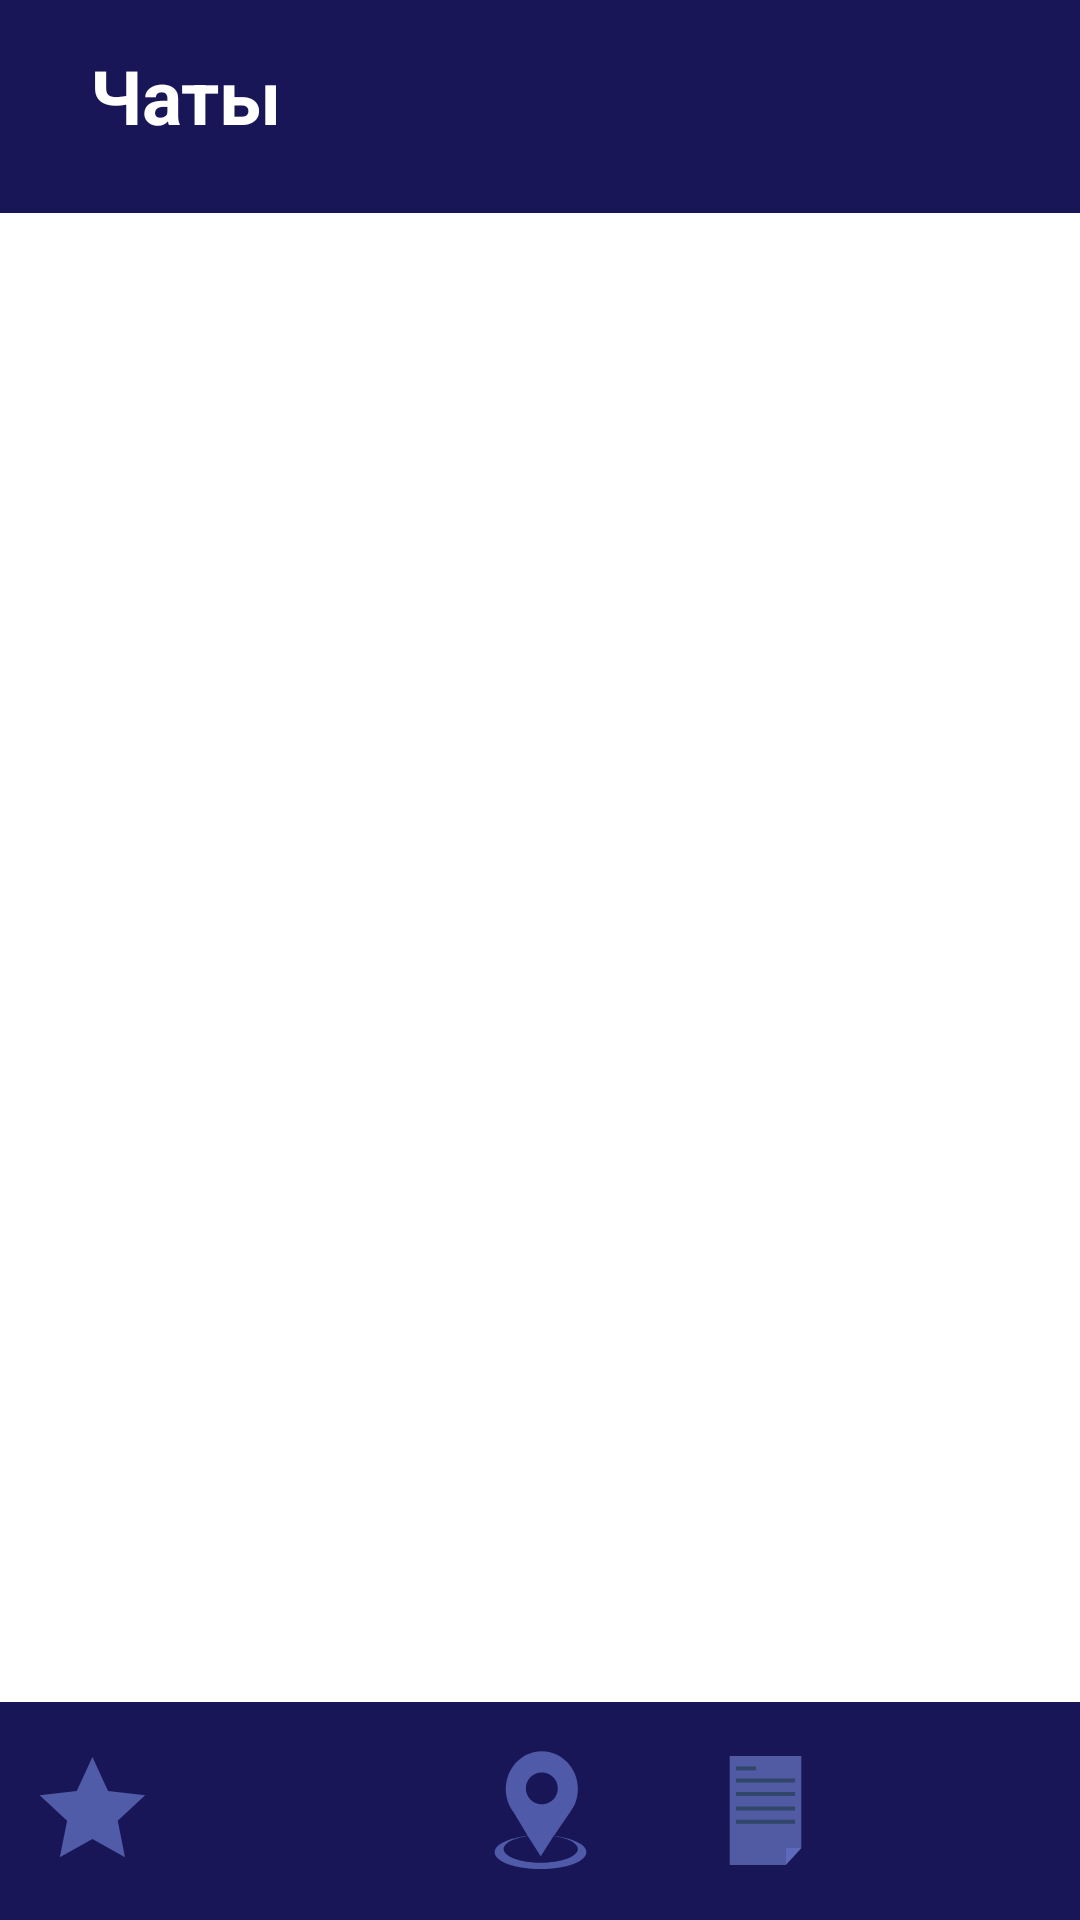

Icons on this 1080w x 1920h Android screen, each with its box as (x1, y1, x2, y2):
favourites: (40, 1757, 145, 1857)
list: (730, 1756, 801, 1865)
map: (494, 1751, 587, 1869)
